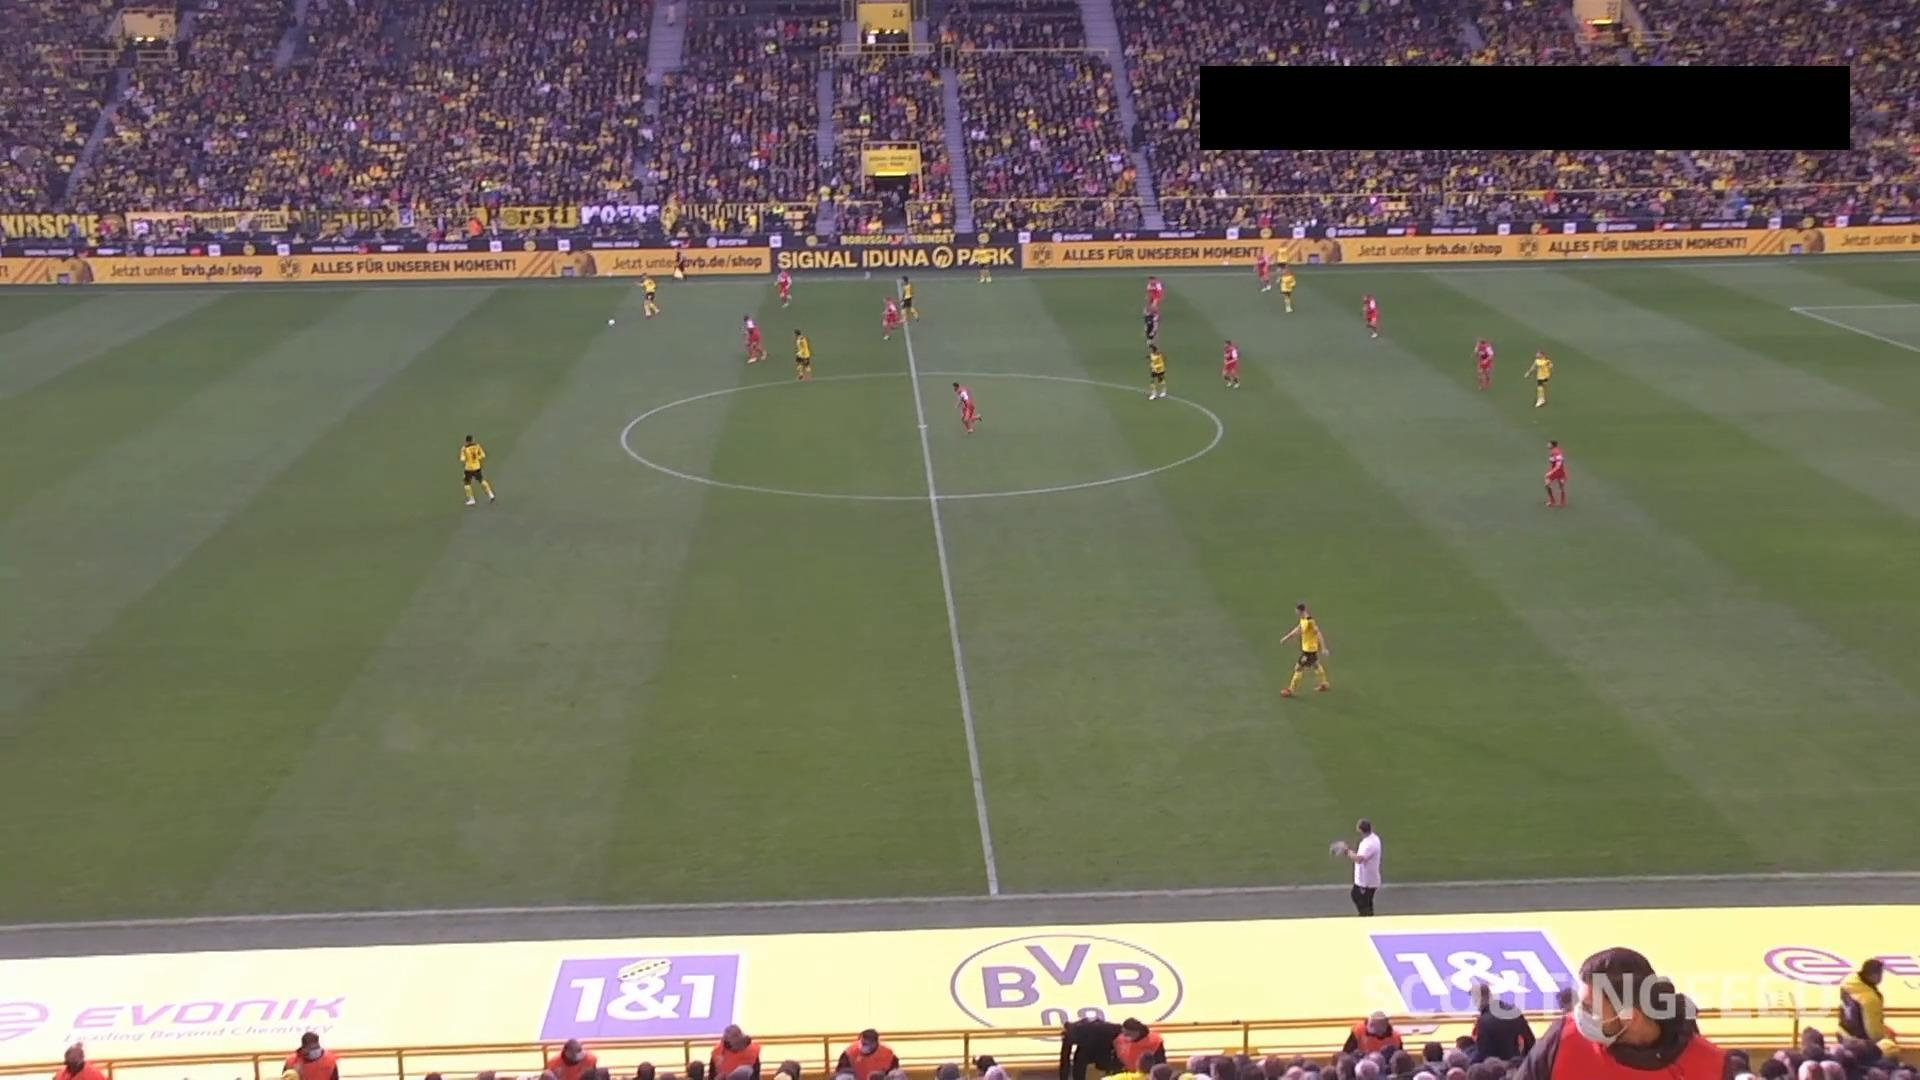ball: (607, 318, 616, 327)
